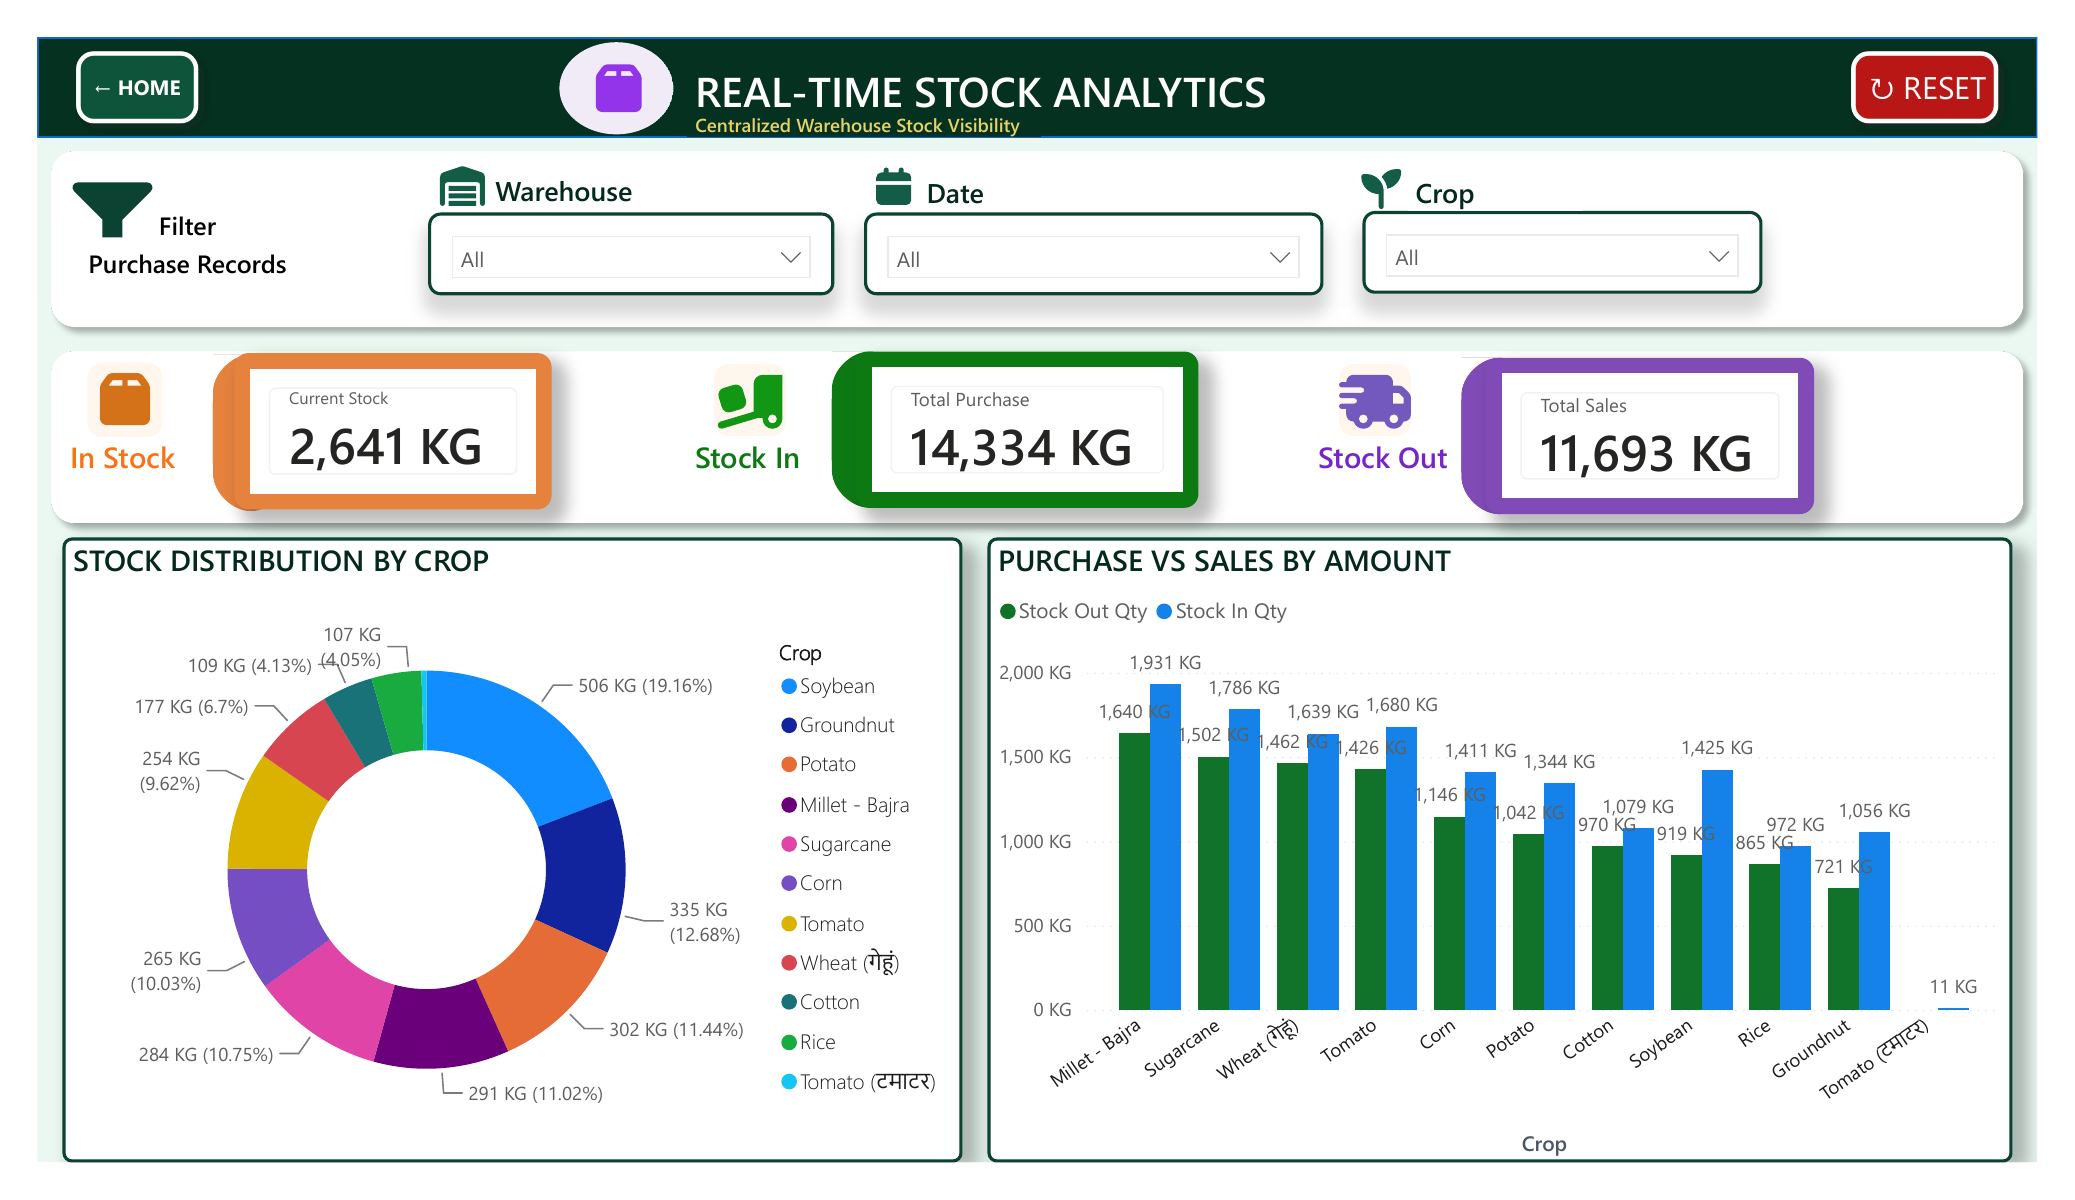

Layout of this report page (visuals, bound fields, positions):
{"tool":"powerbi","page":{"name":"LIVE STOCK","canvas":[1280,720],"ordinal":4},"visuals":[{"type":"shape","box":[0,0,1280,64],"z":0},{"type":"actionButton","box":[16,0,96,64],"z":1000},{"type":"textbox","title":"REAL-TIME STOCK ANALYTICS","box":[416,16,416,32],"z":2000},{"type":"textbox","title":"Centralized Warehouse Stock Visibility","box":[416,48,226,16],"z":3000},{"type":"actionButton","box":[1152,0,112,64],"z":4000},{"type":"shape","box":[0,64,1280,130],"z":5000},{"type":"shape","box":[64,96,64,48],"z":6000},{"type":"image","box":[16,80,64,64],"z":7000},{"type":"slicer","title":"Warehouse","fields":{"Values":["Warehouses.WarehouseName"]},"box":[250,112.2,260,53],"z":8000},{"type":"image","box":[256,79,32,32],"z":9000},{"type":"textbox","title":"Warehouse","box":[288,86,112,24],"z":10000},{"type":"image","box":[532.1,80,32,32],"z":11000},{"type":"textbox","title":"Date","box":[564.1,80,112,32],"z":12000},{"type":"slicer","title":"Warehouse","fields":{"Values":["CropTable.Crop"]},"box":[848,111,256,53],"z":13000},{"type":"image","box":[844,81,32,32],"z":14000},{"type":"textbox","title":"Crop","box":[877,87,112,24],"z":15000},{"type":"shape","box":[16,128,160,32],"z":16000},{"type":"slicer","title":"Warehouse","fields":{"Values":["DateTable.Month Year"]},"box":[528.8,112,294,53],"z":17000},{"type":"shape","box":[334,0,73,65],"z":18000},{"type":"image","box":[328,12,88,42],"z":19000},{"type":"shape","box":[0,192,1280,128],"z":20000},{"type":"image","box":[32,208,48,48],"z":21000},{"type":"textbox","title":"In Stock","box":[16,256,112,32],"z":22000},{"type":"shape","box":[508,200.9,49,100],"z":23000},{"type":"cardVisual","title":"In Stock","fields":{"Data":["CropTable.Stock In Display"]},"box":[524,200.9,219,100],"z":24000},{"type":"shape","box":[910.6,204.6,49,100],"z":25000},{"type":"cardVisual","title":"In Stock","fields":{"Data":["CropTable.Stock Out Display"]},"box":[926.6,204.6,210,100],"z":26000},{"type":"shape","box":[112,202.7,49,100],"z":27000},{"type":"cardVisual","title":"In Stock","fields":{"Data":["CropTable.Current Stock Display"]},"box":[126,202.4,203,100],"z":28000},{"type":"image","box":[432,208,48,48],"z":29000},{"type":"textbox","title":"Stock In","box":[416,256,80,32],"z":30000},{"type":"image","box":[832,208,48,48],"z":31000},{"type":"textbox","title":"Stock Out","box":[815,256,94,32],"z":32000},{"type":"donutChart","title":"STOCK DISTRIBUTION BY CROP","fields":{"Category":["CropTable.Crop"],"Y":["CropTable.Current Stock Qty"]},"box":[16,320,576,400],"z":33000},{"type":"clusteredColumnChart","title":"PURCHASE VS SALES BY AMOUNT","fields":{"Category":["CropTable.Crop"],"Y":["CropTable.Stock Out Qty","CropTable.Stock In Qty"]},"box":[608,320,656,400],"z":34000}]}

Visuals, with their boxes on the page's 1280x720 design canvas (x1, y1, x2, y2). These are canvas units, not pixel positions in the 2075x1200 screenshot, which may show the page scaled, cropped or inside an application window:
shape: 0/0/1280/64
actionButton: 16/0/112/64
"REAL-TIME STOCK ANALYTICS" textbox: 416/16/832/48
"Centralized Warehouse Stock Visibility" textbox: 416/48/642/64
actionButton: 1152/0/1264/64
shape: 0/64/1280/194
shape: 64/96/128/144
image: 16/80/80/144
"Warehouse" slicer: 250/112/510/165
image: 256/79/288/111
"Warehouse" textbox: 288/86/400/110
image: 532/80/564/112
"Date" textbox: 564/80/676/112
"Warehouse" slicer: 848/111/1104/164
image: 844/81/876/113
"Crop" textbox: 877/87/989/111
shape: 16/128/176/160
"Warehouse" slicer: 529/112/823/165
shape: 334/0/407/65
image: 328/12/416/54
shape: 0/192/1280/320
image: 32/208/80/256
"In Stock" textbox: 16/256/128/288
shape: 508/201/557/301
"In Stock" cardVisual: 524/201/743/301
shape: 911/205/960/305
"In Stock" cardVisual: 927/205/1137/305
shape: 112/203/161/303
"In Stock" cardVisual: 126/202/329/302
image: 432/208/480/256
"Stock In" textbox: 416/256/496/288
image: 832/208/880/256
"Stock Out" textbox: 815/256/909/288
"STOCK DISTRIBUTION BY CROP" donutChart: 16/320/592/720
"PURCHASE VS SALES BY AMOUNT" clusteredColumnChart: 608/320/1264/720
